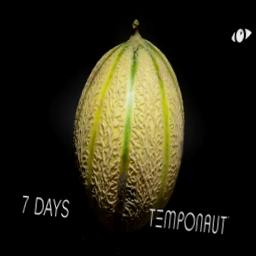Melon Ripe: (58, 12, 198, 233)
